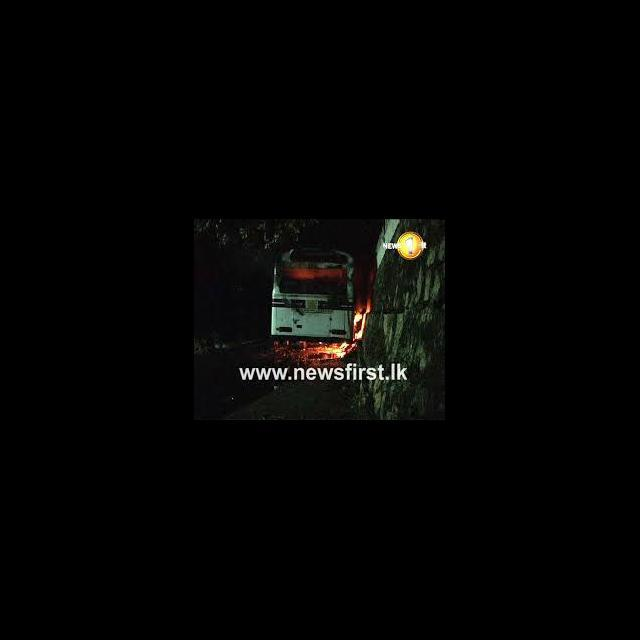Fire: (326, 306, 378, 362)
